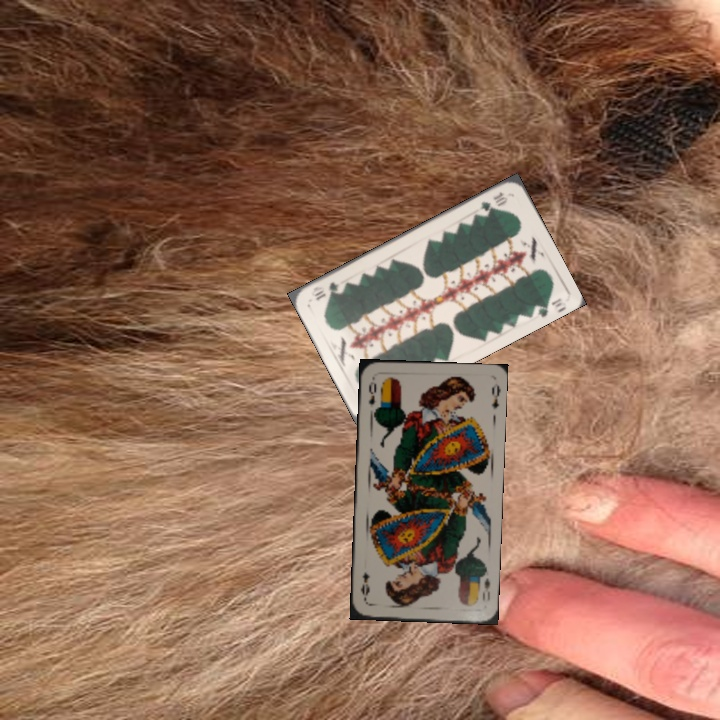EO: (364, 374, 381, 415), (478, 574, 493, 603)
G10: (475, 187, 510, 214)
